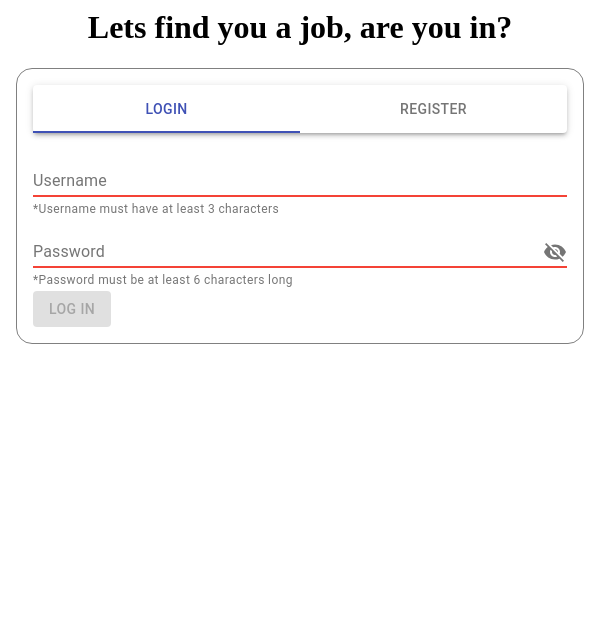
it: tests for landing page › should display success message if the register finished successfully
Click the tab "Register".
click(434, 109)  # box [300,85,567,133]
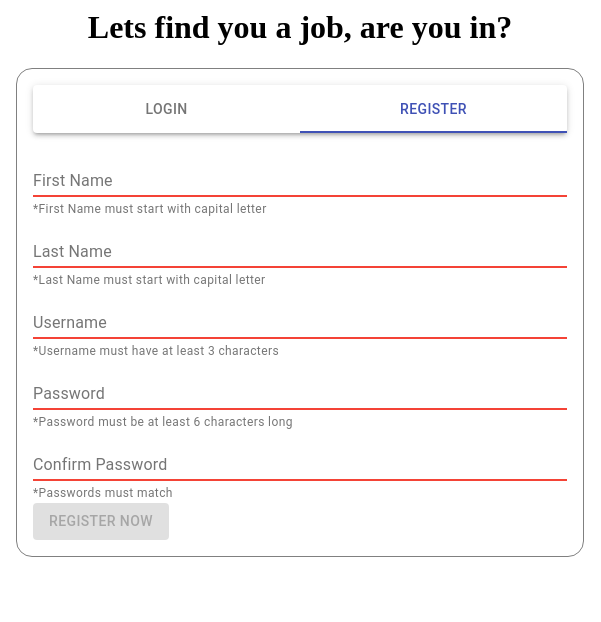
Type "Razvan" into the field labelled "First Name".
click(300, 181); type("Razvan")  # box [33,165,567,197]
Type "Atanasov" into the field labelled "Last Name".
click(300, 252); type("Atanasov")  # box [33,236,567,268]
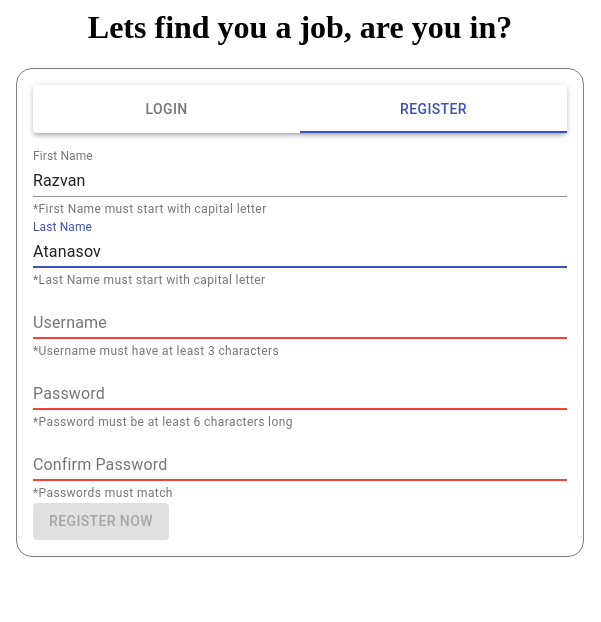
Type "razvan" into the field labelled "Username".
click(300, 323); type("razvan")  # box [33,307,567,339]
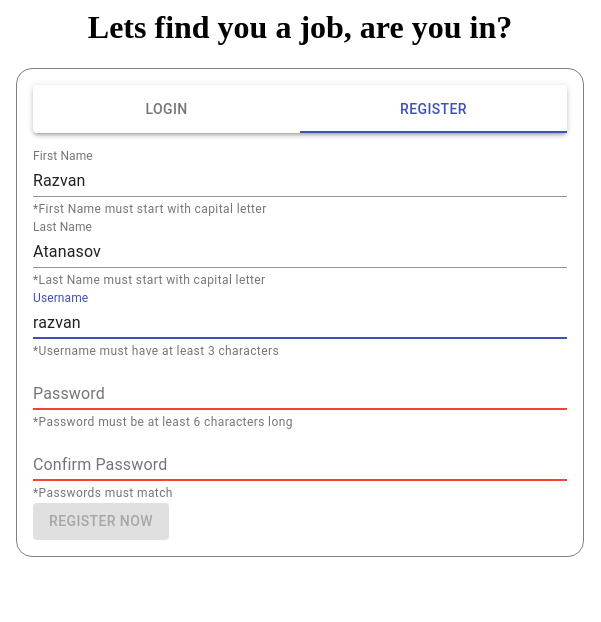
Type "parola123" into the password field labelled "Password".
click(300, 394); type("parola123")  # box [33,378,567,410]
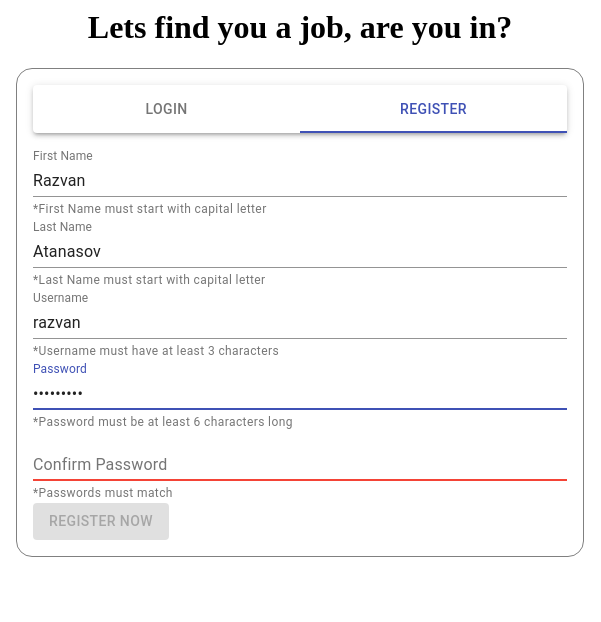
Type "parola123" into the password field labelled "Confirm Password".
click(300, 464); type("parola123")  # box [33,448,567,480]
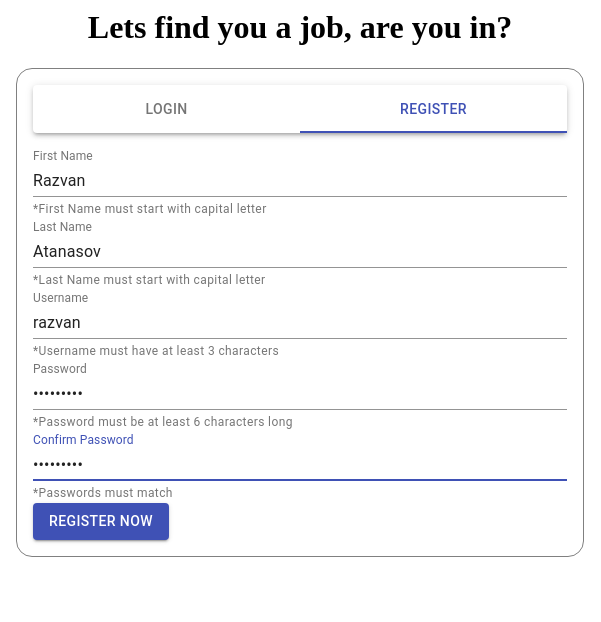
Click the button "Register NOW".
click(101, 522)  # box [33,503,169,540]
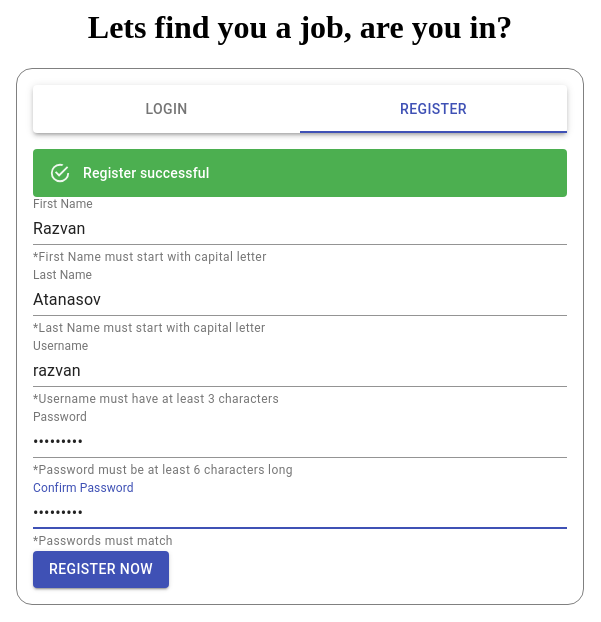
Now the text "Register successful" is shown, box [83,165,209,181]
